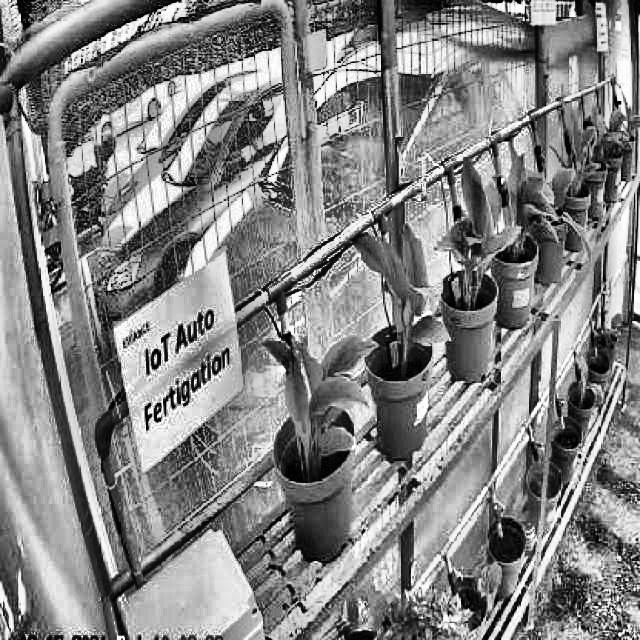plants: (262, 332, 380, 476), (354, 222, 452, 382), (436, 157, 521, 303), (492, 158, 558, 258)
